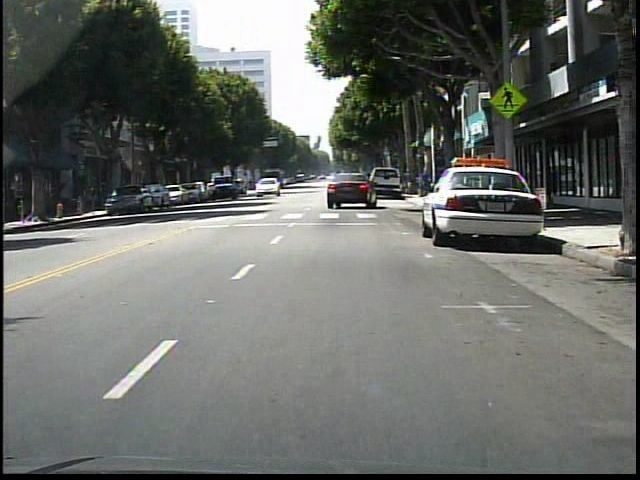person: (418, 165, 440, 206)
